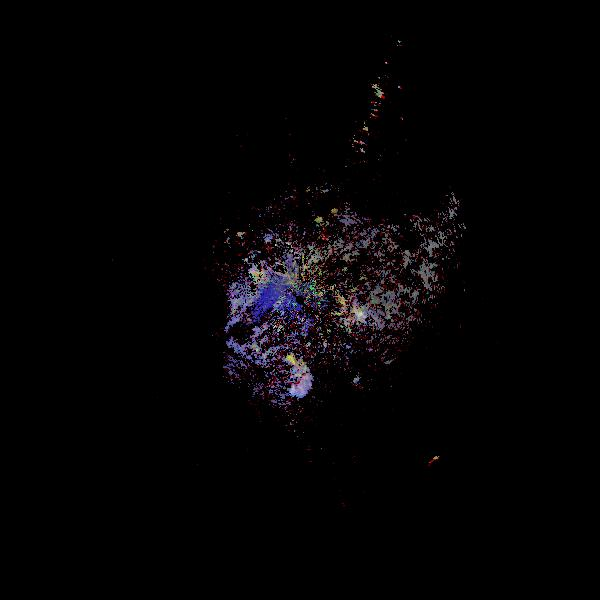roost: (267, 347, 324, 404), (334, 295, 373, 334), (422, 450, 461, 489)
